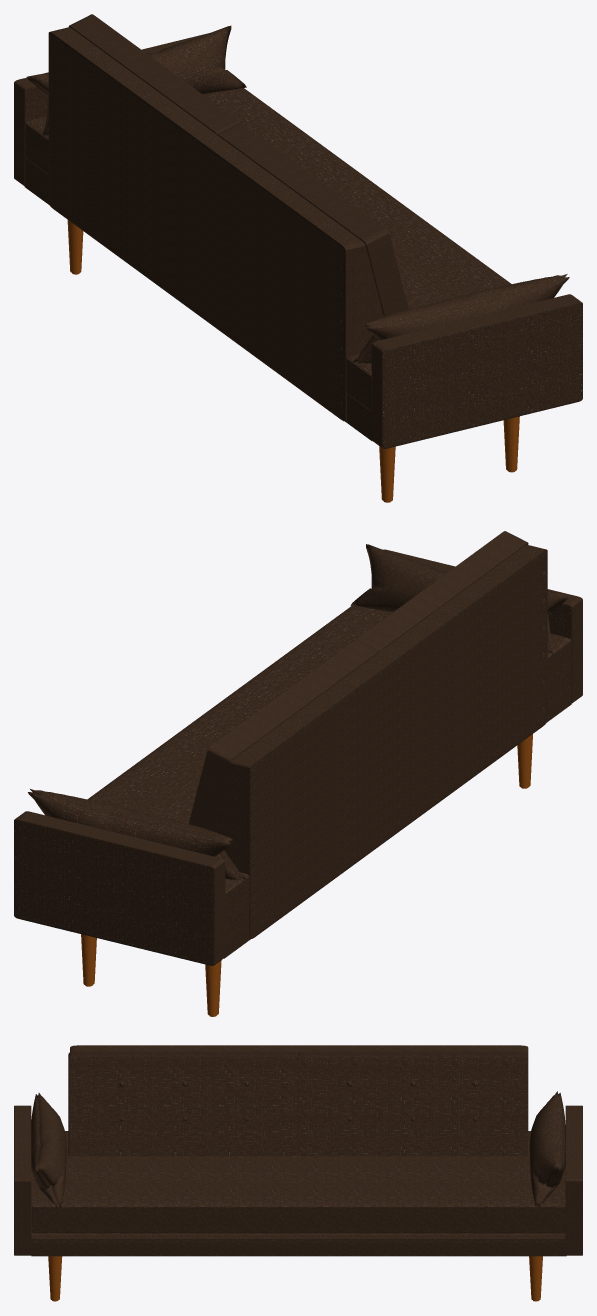
Rendered from Percygit.glb.
3 renders of one model, top to bottom at view 1: azimuth 30°, elevation 25°; view 2: azimuth 150°, elevation 25°; view 3: azimuth 270°, elevation 25°, orthographic. The views are drawn at different scales.
Parts seen in each view (by area): view 1: Cylinder.005, Cylinder.001; view 2: Cylinder.005, Cylinder.001; view 3: Cylinder.005, Cylinder.001.
Boxes of the visible parts, x1,y1,x2,y2 form: Cylinder.005: (14,14,582,448); Cylinder.001: (67,220,519,502); Cylinder.005: (14,531,582,965); Cylinder.001: (81,734,532,1016); Cylinder.005: (14,1045,582,1256); Cylinder.001: (48,1256,542,1301).
Size of the model in its own units: 0.9276 by 1.13 by 2.9.
Materials: 2 (2 with a texture image).
